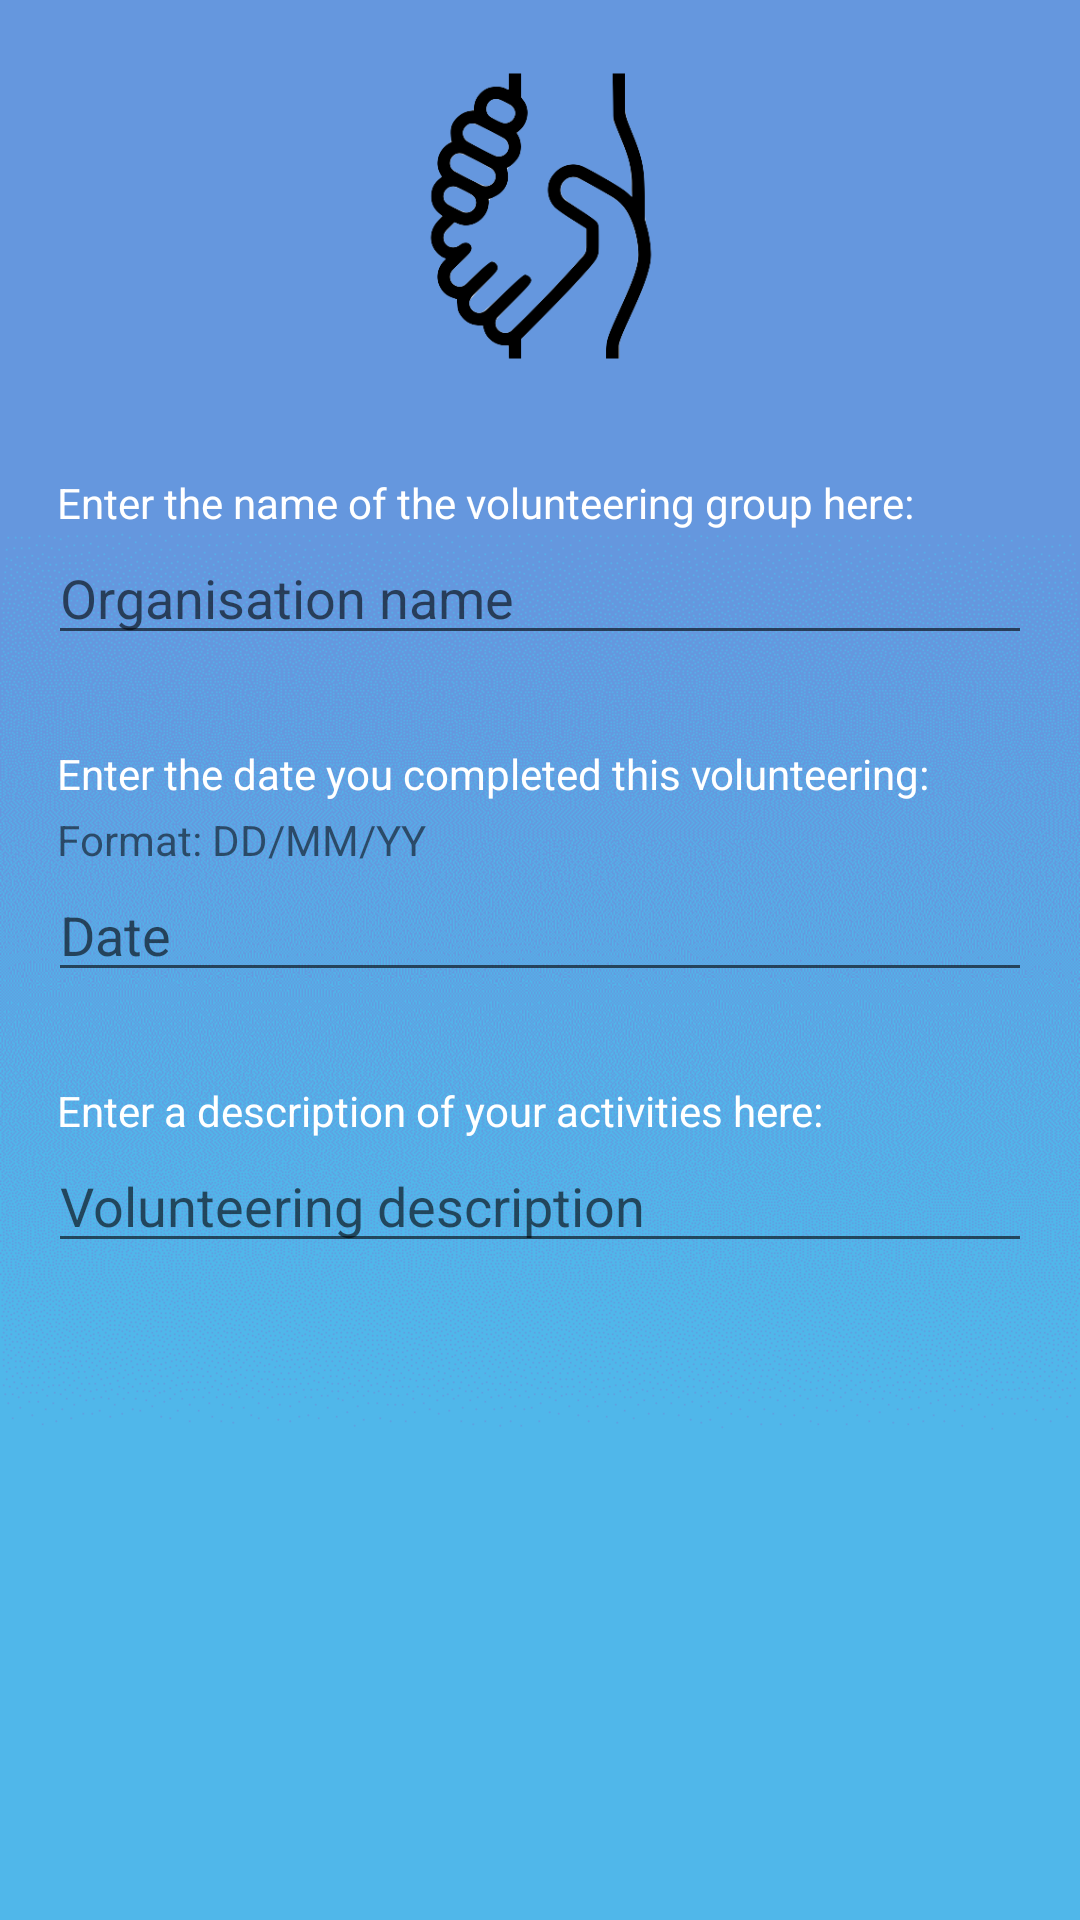

Point at icon controls on the screen. Image size 1080×1920, points as point (x, y).
helping: point (541, 216)
